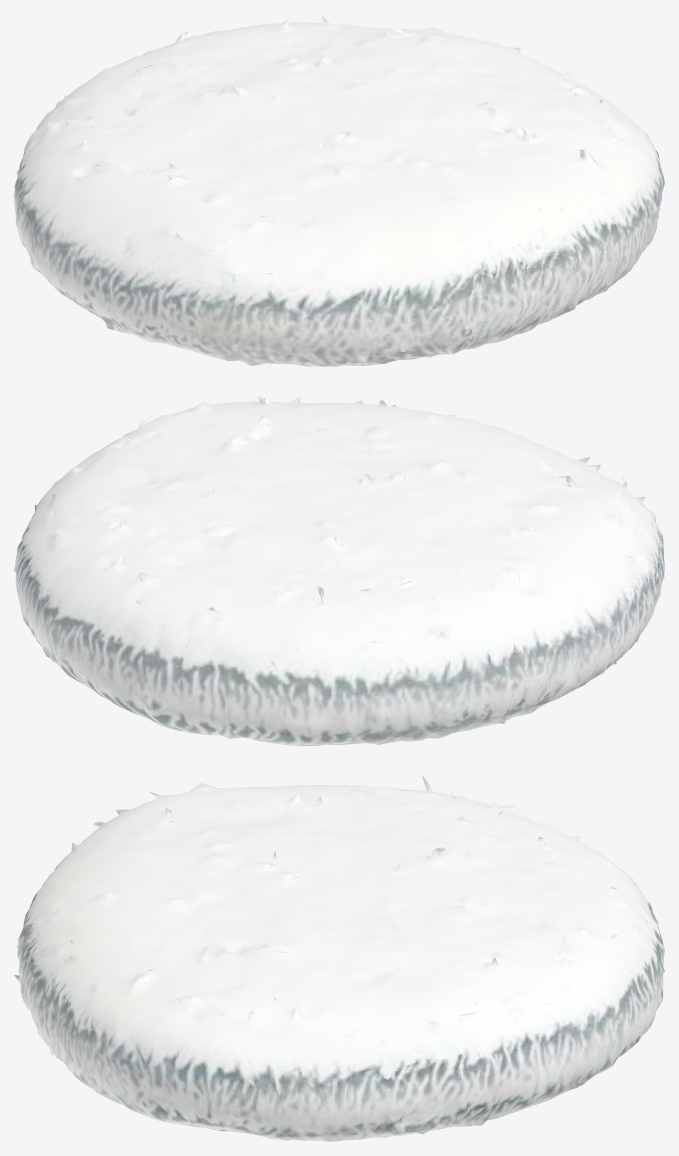
The model's file is White_round_rug.glb.
3 renders of one model, top to bottom at view 1: azimuth 30°, elevation 25°; view 2: azimuth 150°, elevation 25°; view 3: azimuth 270°, elevation 25°, orthographic. The views are drawn at different scales.
Visible parts, largest first — view 1: Mesh_0; view 2: Mesh_0; view 3: Mesh_0.
Boxes of the visible parts, left/top/right/bottom form: Mesh_0: left=14, top=14, right=664, bottom=366; Mesh_0: left=14, top=395, right=664, bottom=746; Mesh_0: left=14, top=776, right=664, bottom=1141.
Bounding box in the file's own units: 1.89 × 0.4767 × 1.83.
1 material, 1 textured.
